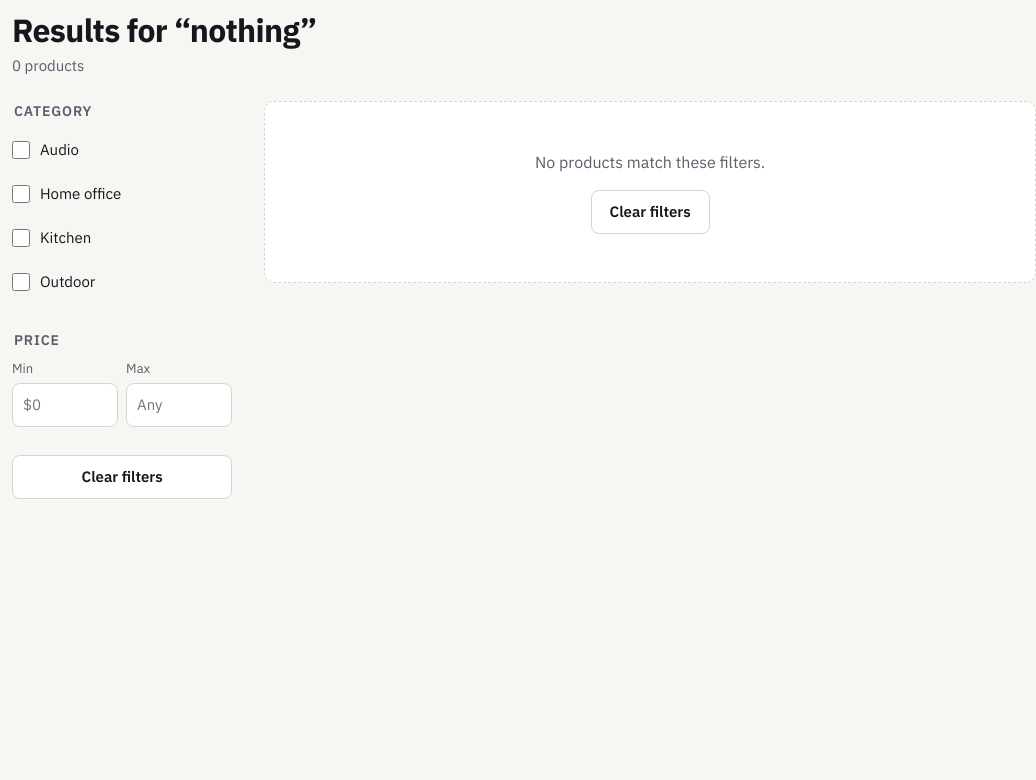
it: CatalogPage › offers to clear filters when nothing matches
The image size is (1036, 780).
Expected: the text "No products match these filters." is shown, [535,150,765,174]
What coordinates should you click on to do the following:
click the button "Clear filters" below "No products match these filters."
I would click on:
 (650, 212)
Its box is [590,190,710,234].
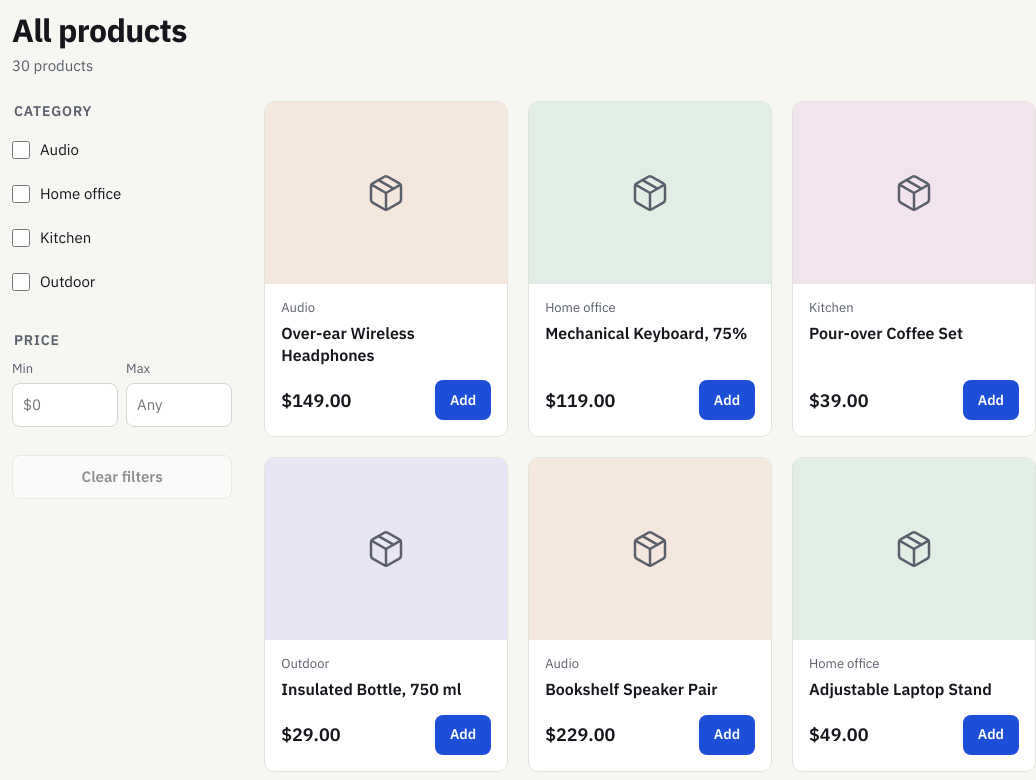
Now the text "30 products" is shown, box [12,56,93,75]
